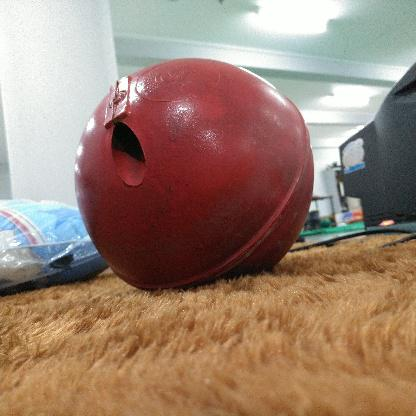red_buoy: (75, 54, 314, 290)
